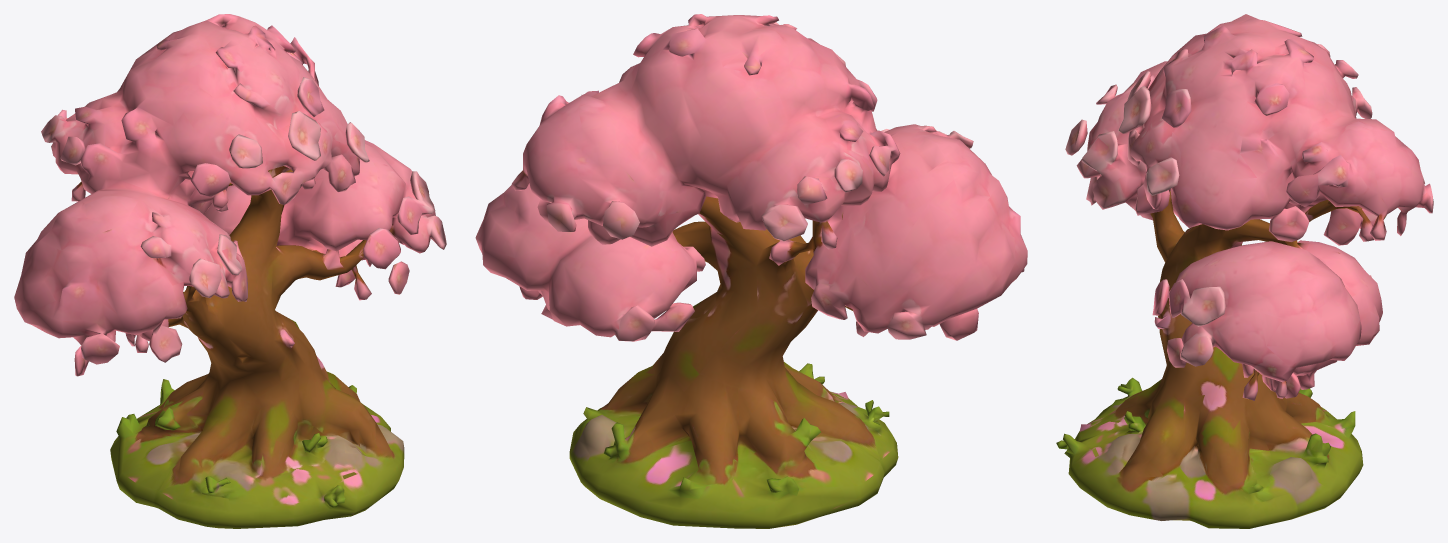
3 renders of one model, left to right at view 1: azimuth 30°, elevation 25°; view 2: azimuth 150°, elevation 25°; view 3: azimuth 270°, elevation 25°, orthographic. The views are drawn at different scales.
Parts seen in each view (by area): view 1: tree-blossom; view 2: tree-blossom; view 3: tree-blossom.
Part boxes in pixels (x1=…): tree-blossom: x1=14, y1=14, x2=446, y2=528; tree-blossom: x1=475, y1=14, x2=1027, y2=528; tree-blossom: x1=1056, y1=14, x2=1433, y2=528.
Size of the model in its own units: 5.27 by 5.01 by 3.99.
1 material, 1 textured.
